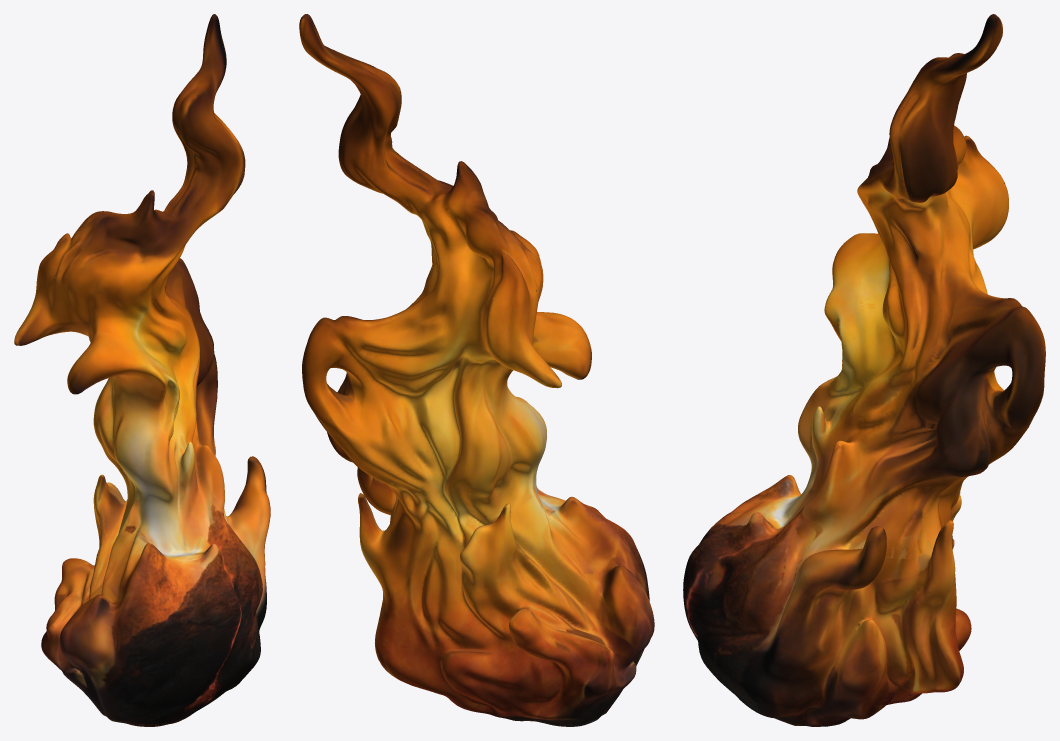
The model's file is fuel.glb.
3 renders of one model, left to right at view 1: azimuth 30°, elevation 25°; view 2: azimuth 150°, elevation 25°; view 3: azimuth 270°, elevation 25°, orthographic. The views are drawn at different scales.
Bounding box in the file's own units: 0.7831 × 2 × 0.8539.
1 material, 1 textured.
